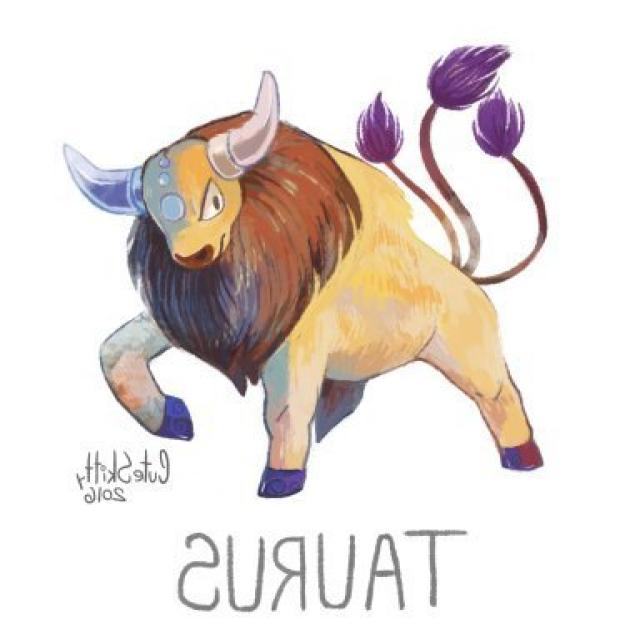Tauros: (57, 70, 546, 483)
